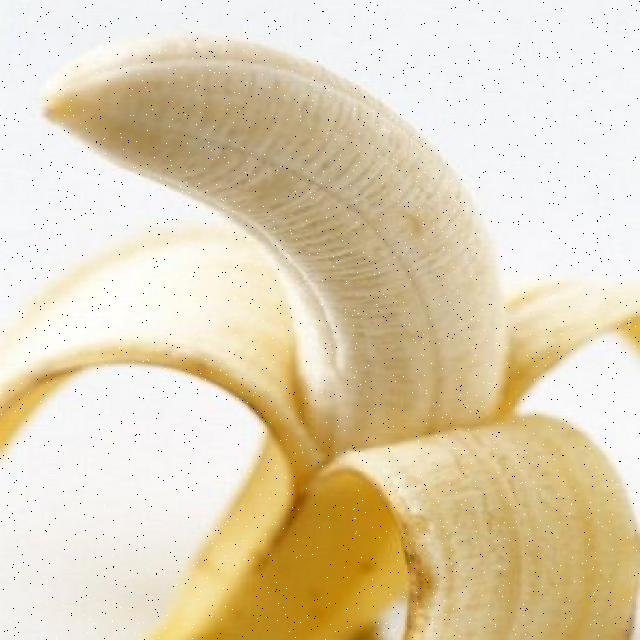banana-peel: (0, 30, 639, 639)
